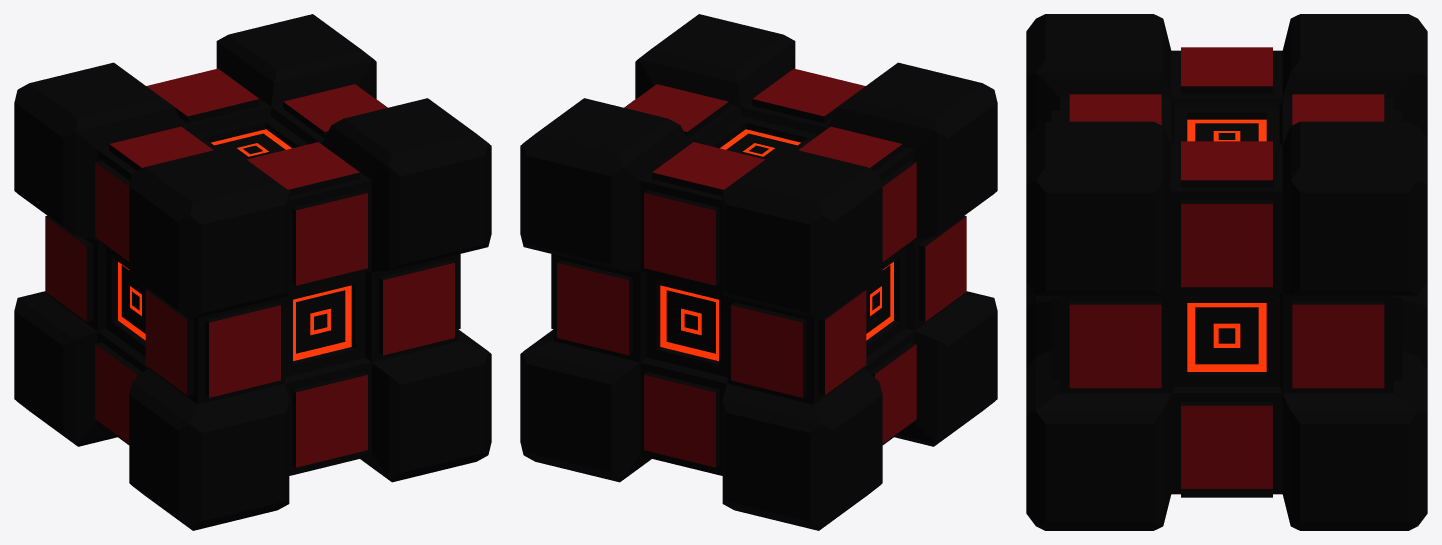
The model's file is Game Bomb.fbx.
3 views of the same model, side by side, from view 1: azimuth 30°, elevation 25°; view 2: azimuth 150°, elevation 25°; view 3: azimuth 270°, elevation 25° (orthographic). The views are drawn at different scales.
Visible parts, largest first — view 1: Cube; view 2: Cube; view 3: Cube.
Part boxes in pixels (bbox=[...]): Cube: bbox=[14, 14, 491, 530]; Cube: bbox=[520, 14, 997, 530]; Cube: bbox=[1026, 14, 1427, 530].
Bounding box in the file's own units: 210 × 210 × 210.
